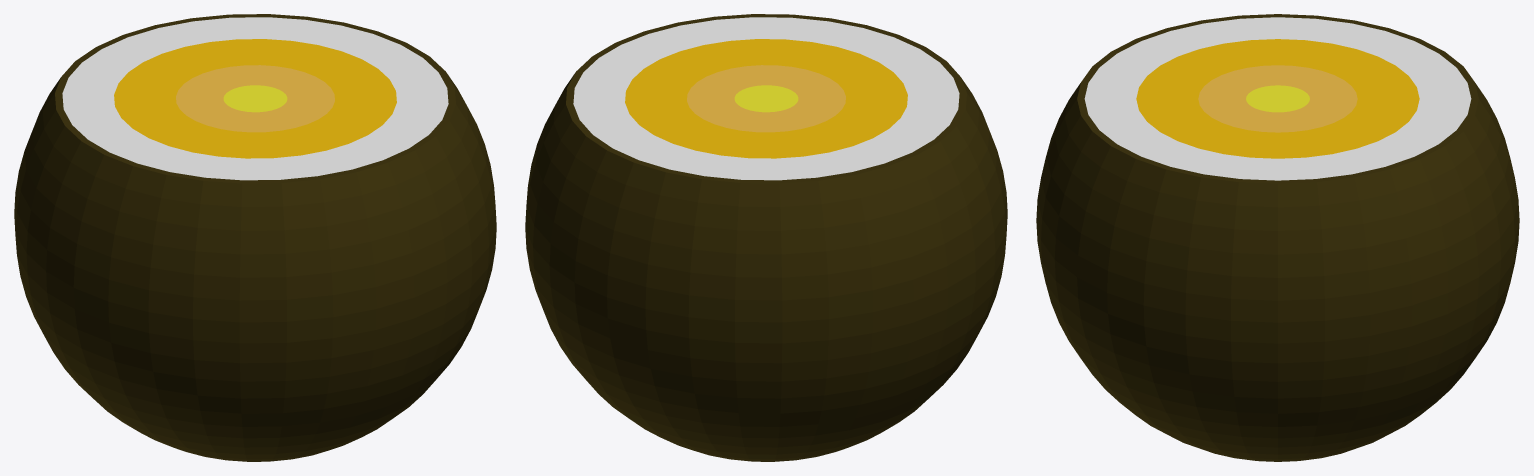
Rendered from PlanetaEsfera01.fbx.
3 views of the same model, side by side, from view 1: azimuth 30°, elevation 25°; view 2: azimuth 150°, elevation 25°; view 3: azimuth 270°, elevation 25° (orthographic).
Parts seen in each view (by area): view 1: PlanetaEsfera; view 2: PlanetaEsfera; view 3: PlanetaEsfera.
Boxes of the visible parts, x1,y1,x2,y2 form: PlanetaEsfera: (14, 14, 496, 461); PlanetaEsfera: (525, 14, 1007, 461); PlanetaEsfera: (1036, 14, 1519, 461).
Bounding box in the file's own units: 200 × 156 × 200.
